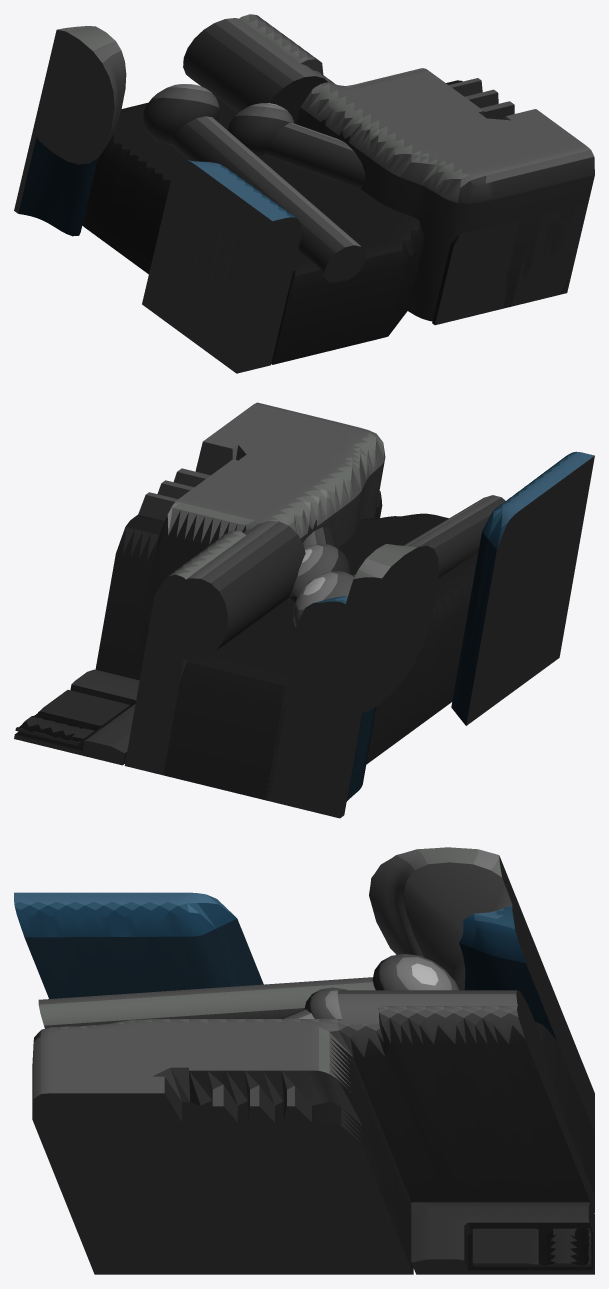
Rendered from fleet_walker_87.glb.
3 renders of one model, top to bottom at view 1: azimuth 30°, elevation 25°; view 2: azimuth 150°, elevation 25°; view 3: azimuth 270°, elevation 25°, orthographic. The views are drawn at different scales.
Visible parts, largest first — view 1: fleet_walker_87; view 2: fleet_walker_87; view 3: fleet_walker_87.
Boxes of the visible parts, x1=… form: fleet_walker_87: x1=14, y1=14, x2=594, y2=373; fleet_walker_87: x1=14, y1=402, x2=594, y2=818; fleet_walker_87: x1=14, y1=847, x2=594, y2=1274.
Bounding box in the file's own units: 24 × 15.2 × 32.51.
